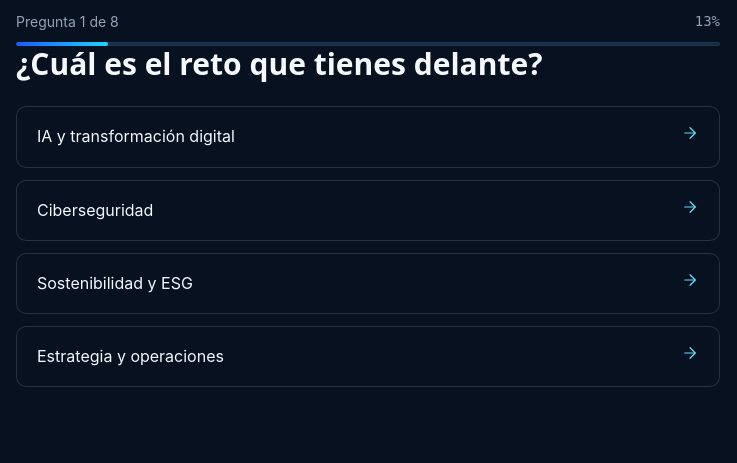
Test: FormWizard — la pregunta 2 es condicional (CA-07, CA-08) › ciberseguridad se la salta y va directo al tamaño
The image size is (737, 463).
What coordinates should you click on to do the following:
click the button "Ciberseguridad"
I would click on:
 (95, 210)
Its box is [16,180,720,241].
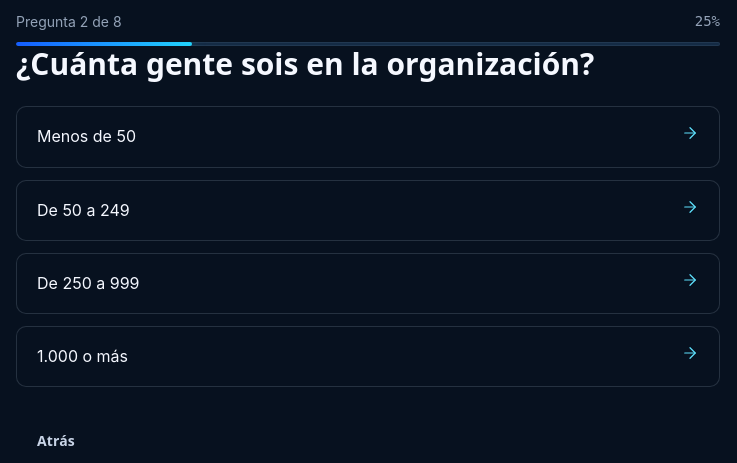
Result: the text "¿Cuánta gente sois en la organización?" is shown at [16,46,594,82]
